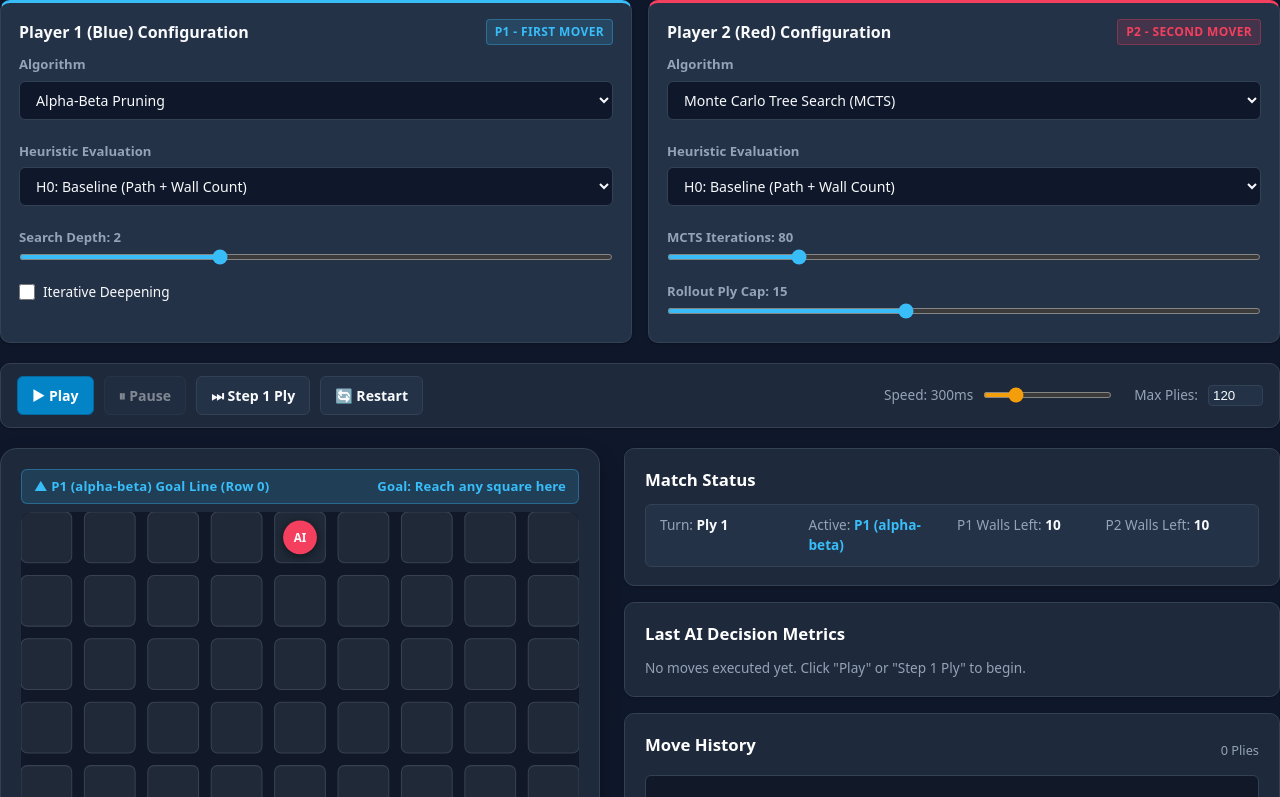
Test: Experimentation Platform: Navigation & Views › ArenaView allows stepping a move, configuring heuristic presets, and records history entry
Expected: the text "Ply 1" is shown, [696,515,728,534]
Step 1. Select "H2: Wall Resource Aware" in the dropdown labelled "Heuristic Evaluation" below "Player 1 (Blue) Configuration" → (316, 187), box [19,167,613,206]
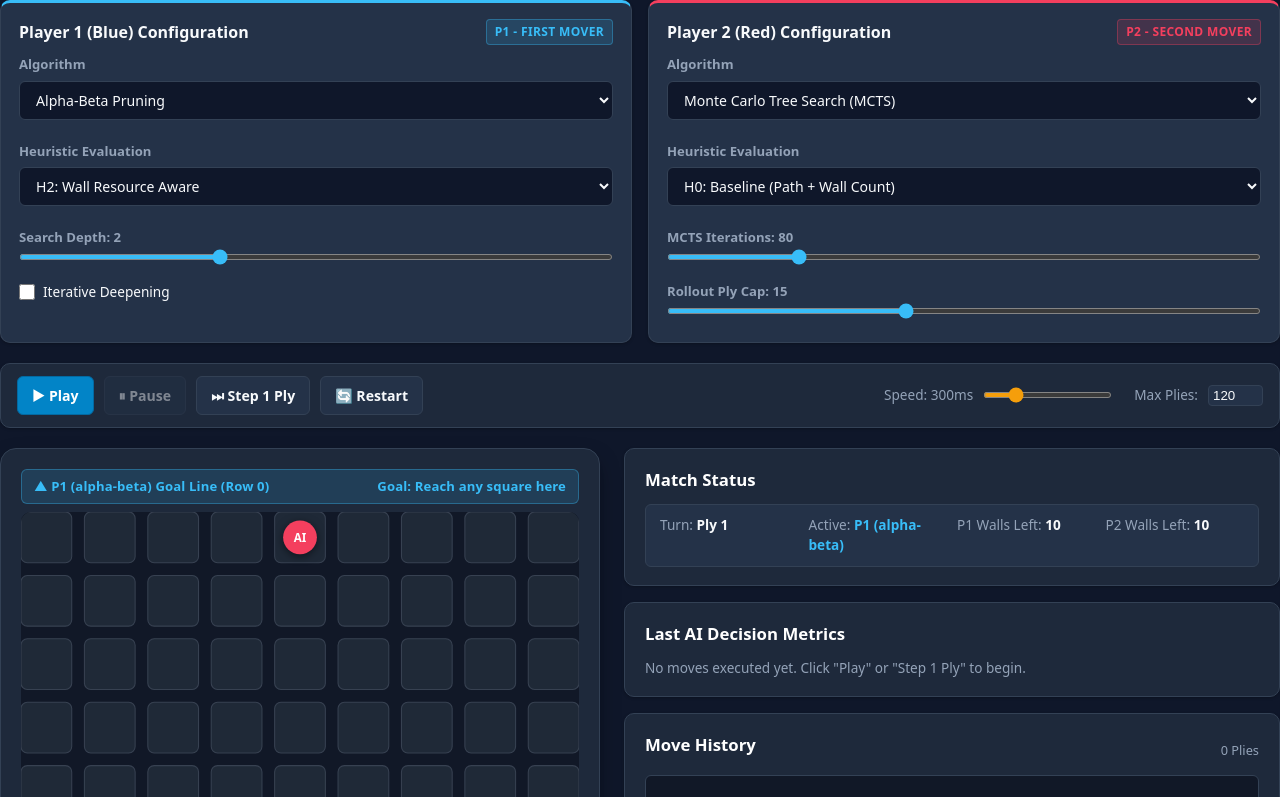
Note: Step 1 ply
Step 2. Click the button "⏭ Step 1 Ply" → (253, 395), box [196,376,310,415]
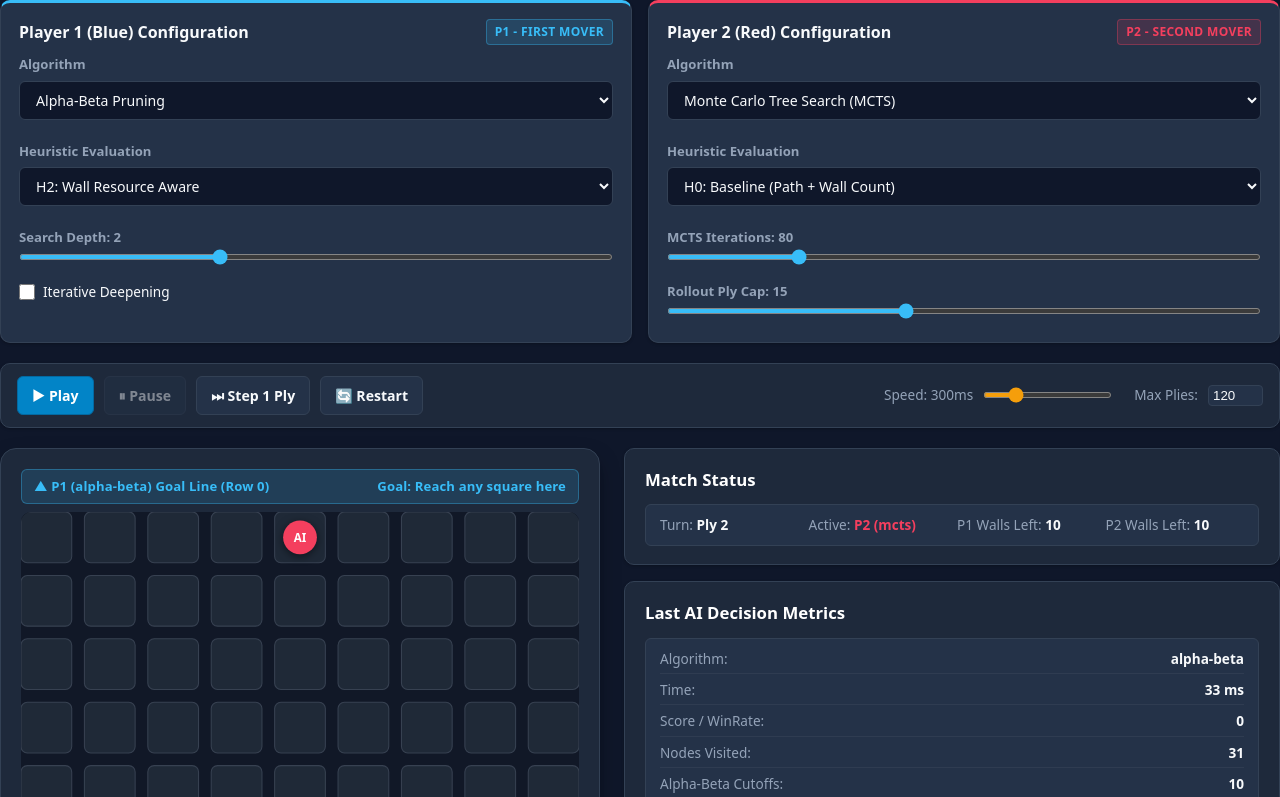
Expected: the text "Ply 2" is shown, [696,515,728,534]
Note: Click Restart
Step 3. Click the button "🔄 Restart" → (372, 395), box [320,376,423,415]
(page scrolled)
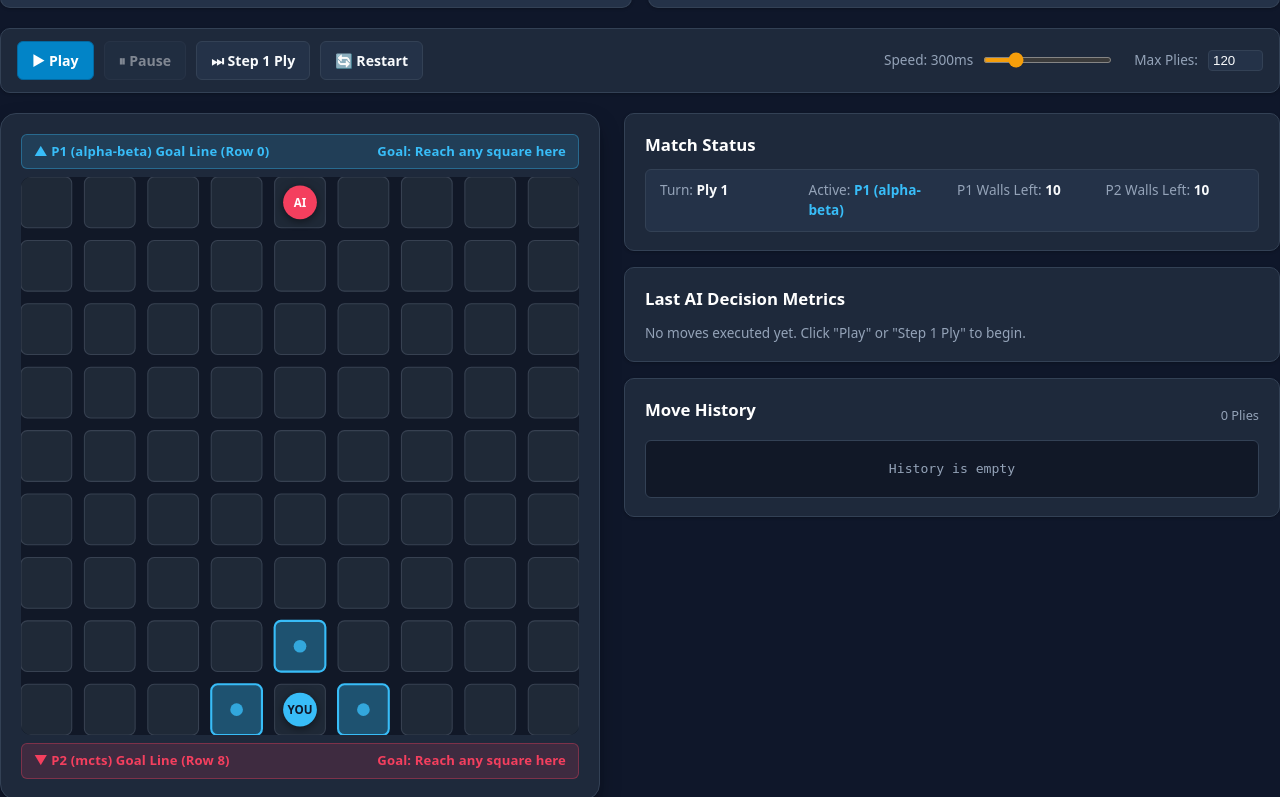
Expected: the text "History is empty" is shown, [889,462,1015,476]
